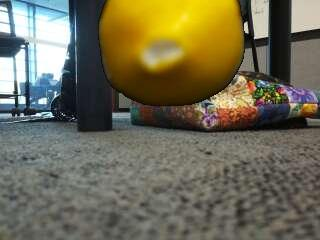lemon: (99, 0, 244, 106)
